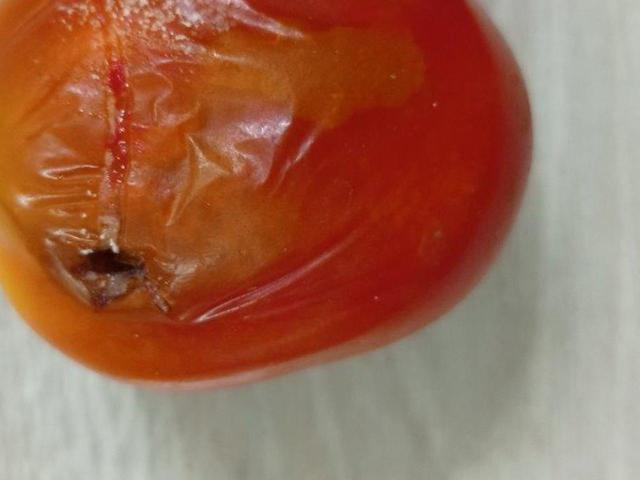defect: (0, 0, 536, 391)
